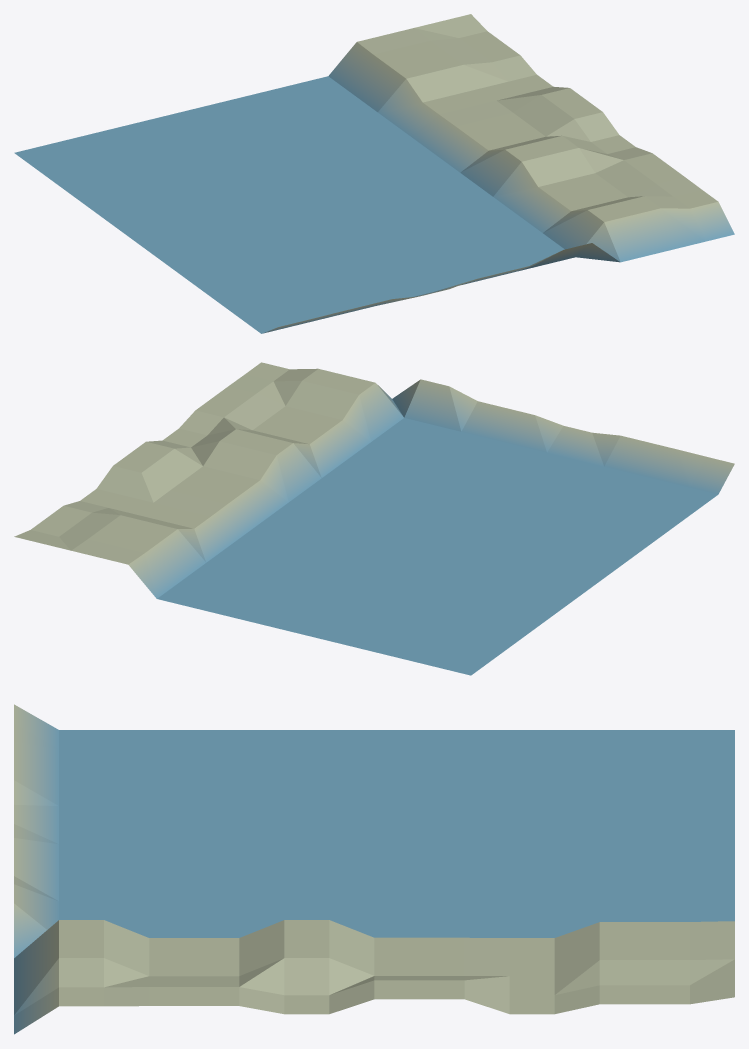
The picture shows the model from 3 angles, top to bottom: view 1: azimuth 30°, elevation 25°; view 2: azimuth 150°, elevation 25°; view 3: azimuth 270°, elevation 25°; orthographic projection. The views are drawn at different scales.
Size of the model in its own units: 32 by 1.89 by 32.
